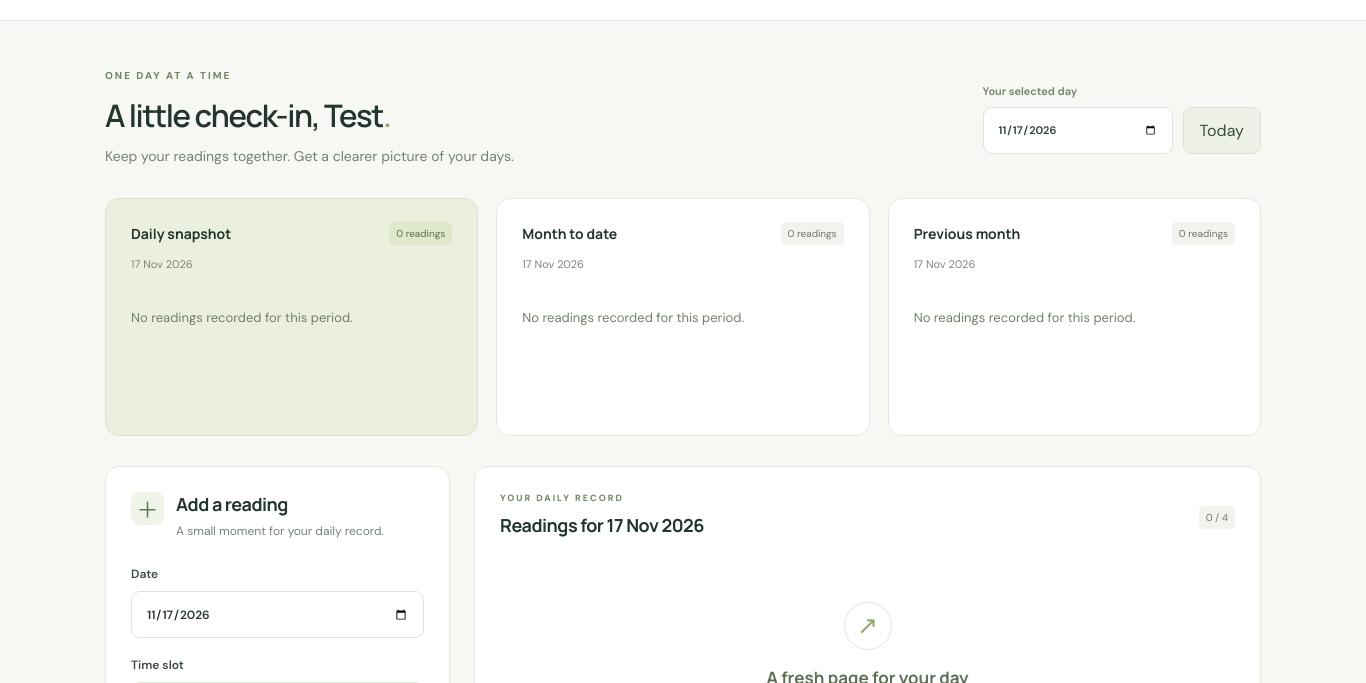
Test: edit locks report navigation and Cancel discards an unsaved date move
The image size is (1366, 683).
Expected: the heading "A little check-in, Test." is shown, [105, 94, 390, 136]
Type "2026-11-15" into the date field named "Selected report date" at (1078, 130), box [983, 107, 1173, 154]
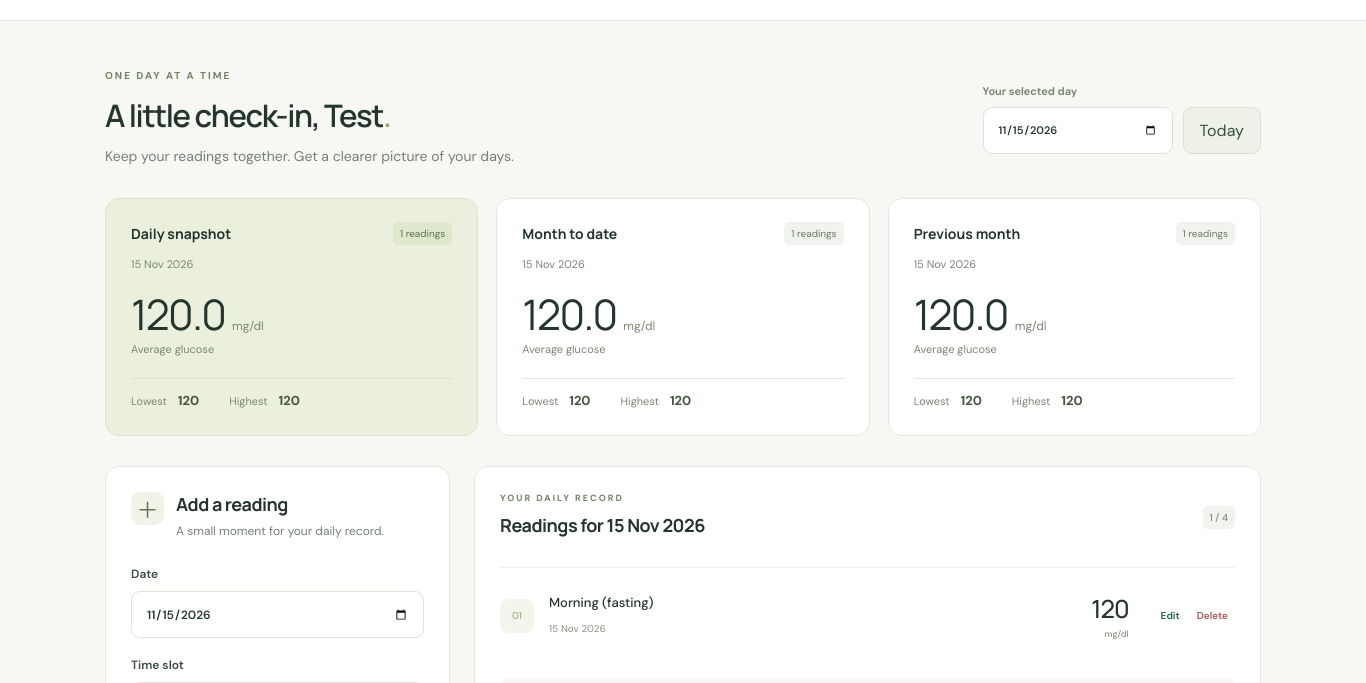
Click the button with aria-label "Edit Morning (fasting) reading" at (1170, 616), box [1154, 602, 1187, 629]
(page scrolled)
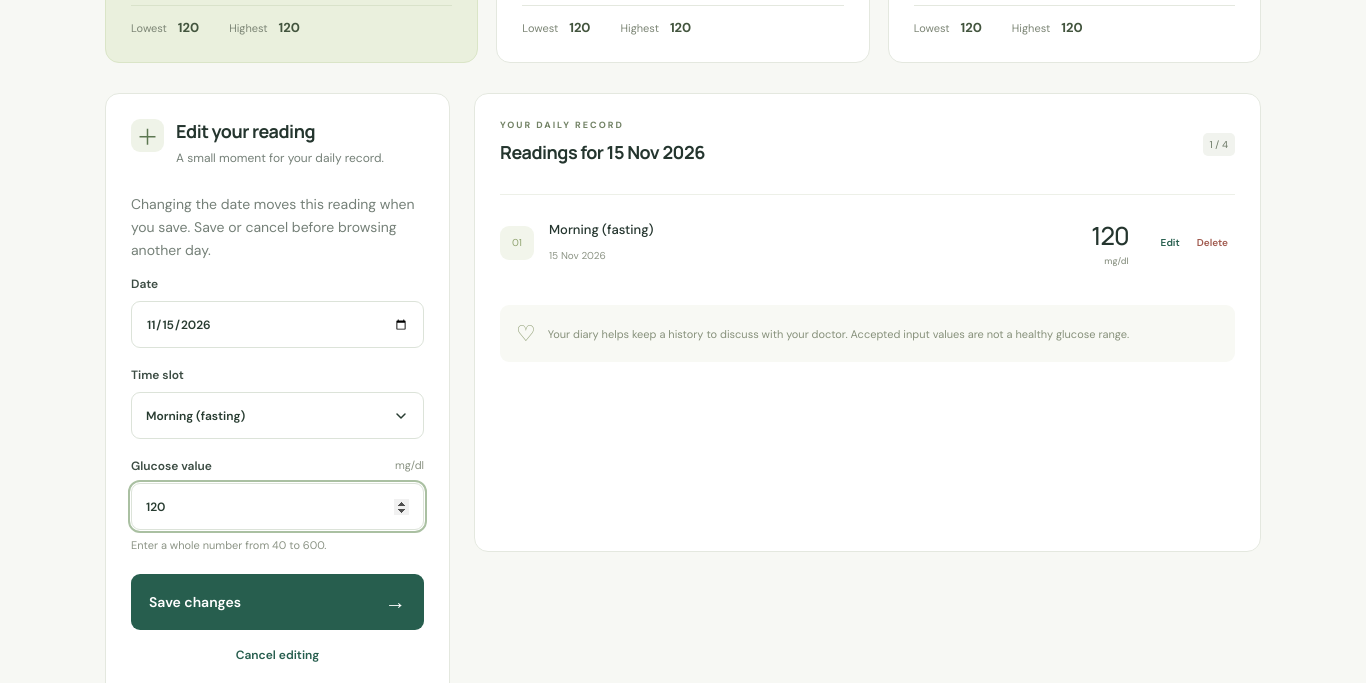
Type "2026-11-14" into the date field labelled "Date" at (278, 325), box [131, 302, 424, 348]
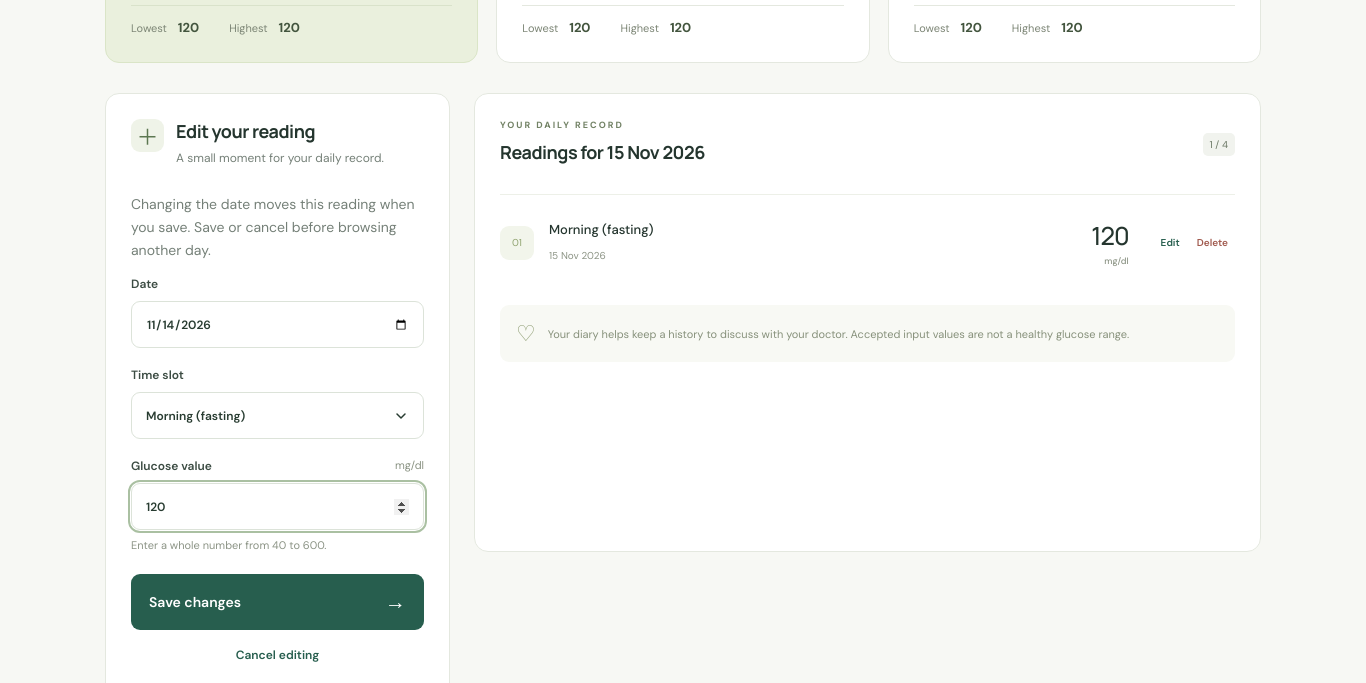
Click the button "Cancel editing" at (278, 656), box [131, 640, 424, 670]
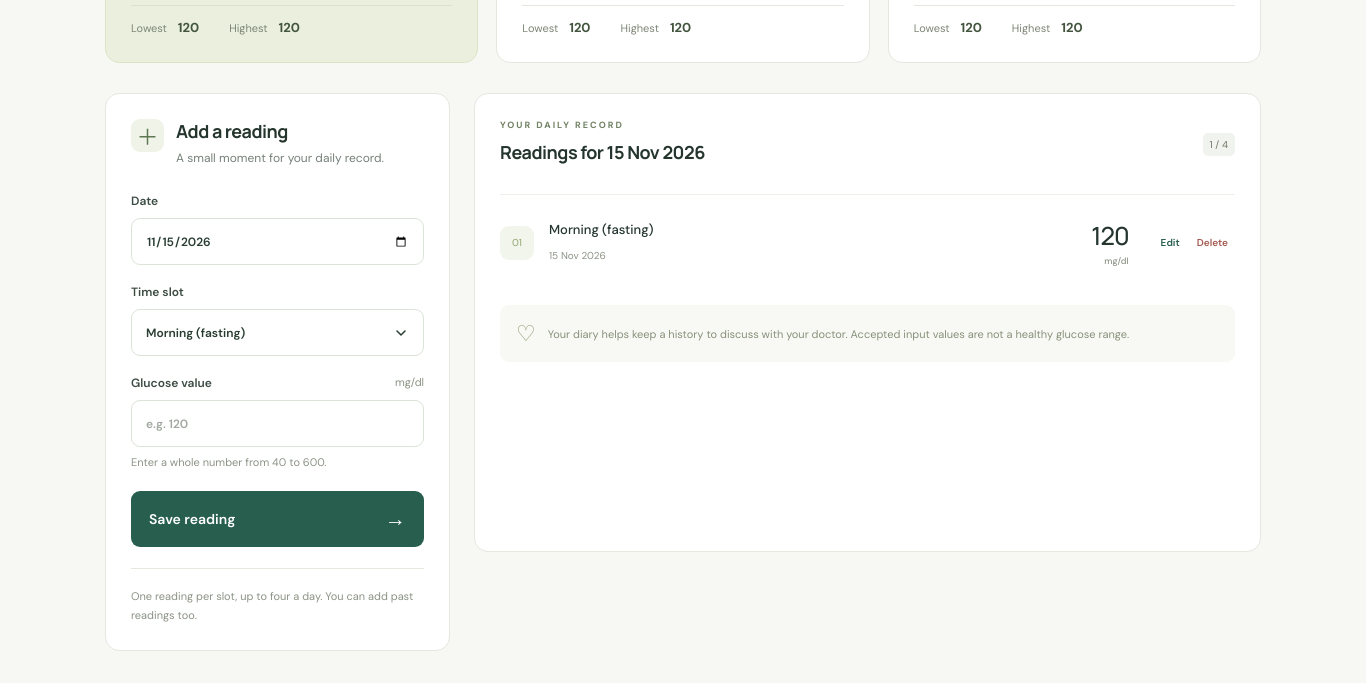
Result: the date field labelled "Date" holds "2026-11-15" at [131, 218, 424, 265]
